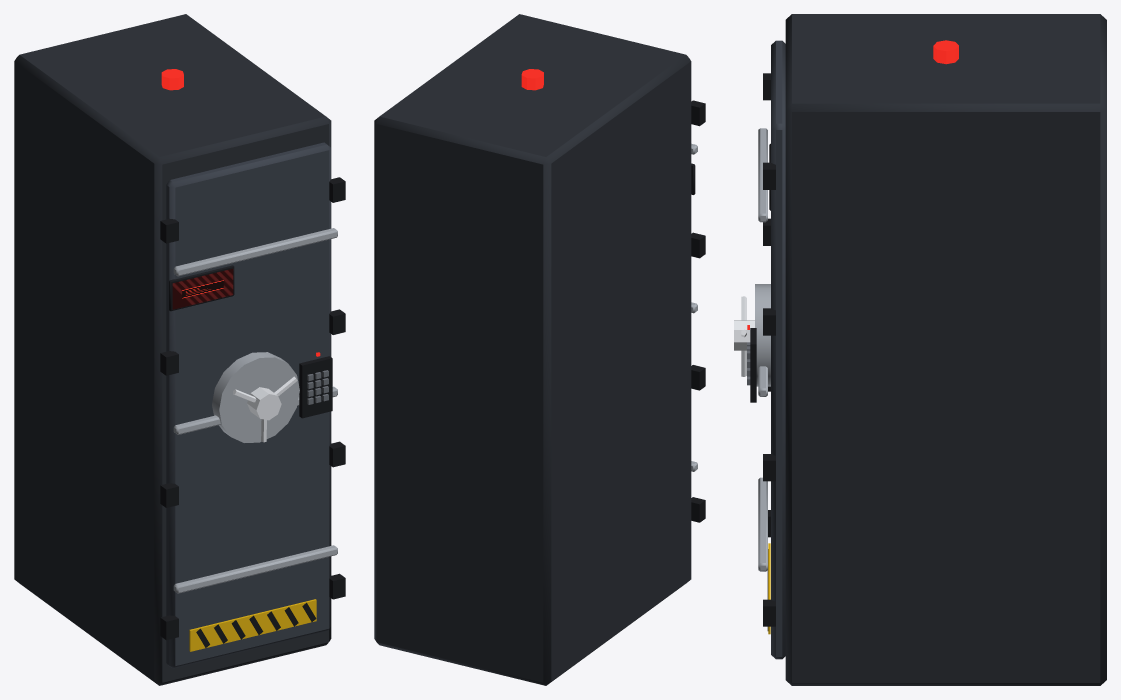
File: rack_armored_data_rack.glb
3 views of the same model, side by side, from view 1: azimuth 30°, elevation 25°; view 2: azimuth 150°, elevation 25°; view 3: azimuth 270°, elevation 25° (orthographic). The views are drawn at different scales.
Visible parts, largest first — view 1: rack_armored_data_rack; view 2: rack_armored_data_rack; view 3: rack_armored_data_rack.
Part boxes in pixels (bbox=[...]): rack_armored_data_rack: bbox=[14, 14, 345, 685]; rack_armored_data_rack: bbox=[374, 14, 705, 685]; rack_armored_data_rack: bbox=[734, 14, 1106, 685].
Bounding box in the file's own units: 0.71 × 2.05 × 1.16.
Materials: 9 (1 with a texture image).
